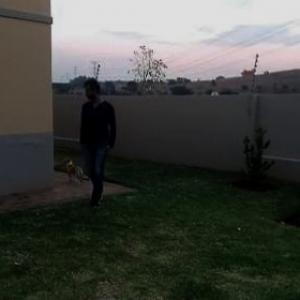follow: (76, 76, 116, 210)
